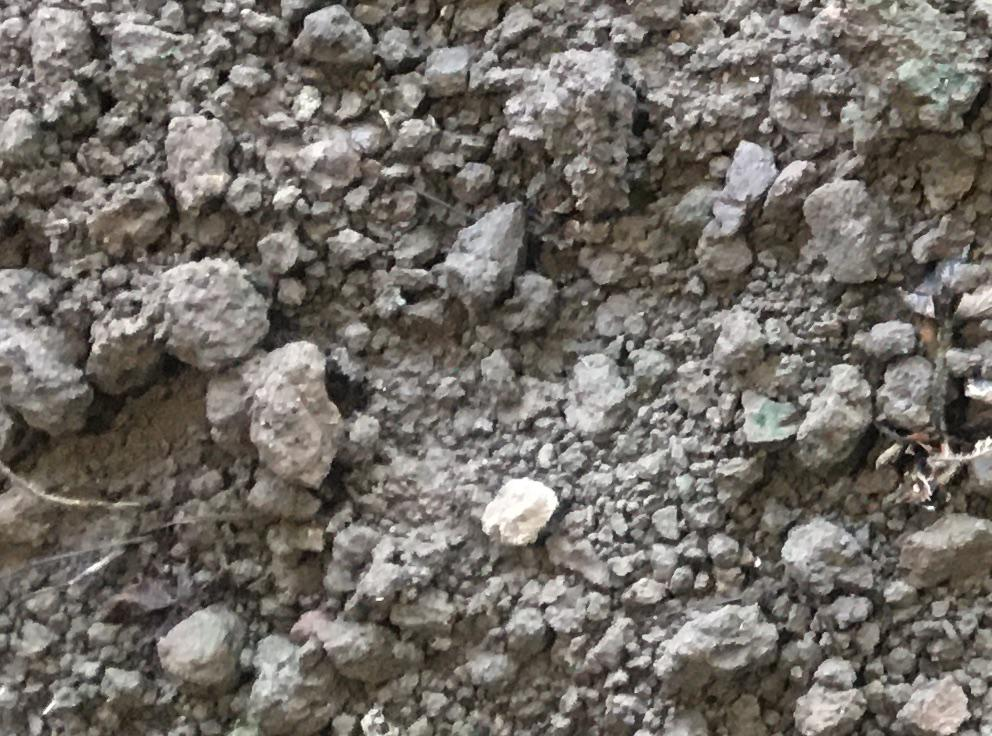block: (232, 346, 342, 477), (139, 266, 270, 369), (653, 606, 779, 696)
